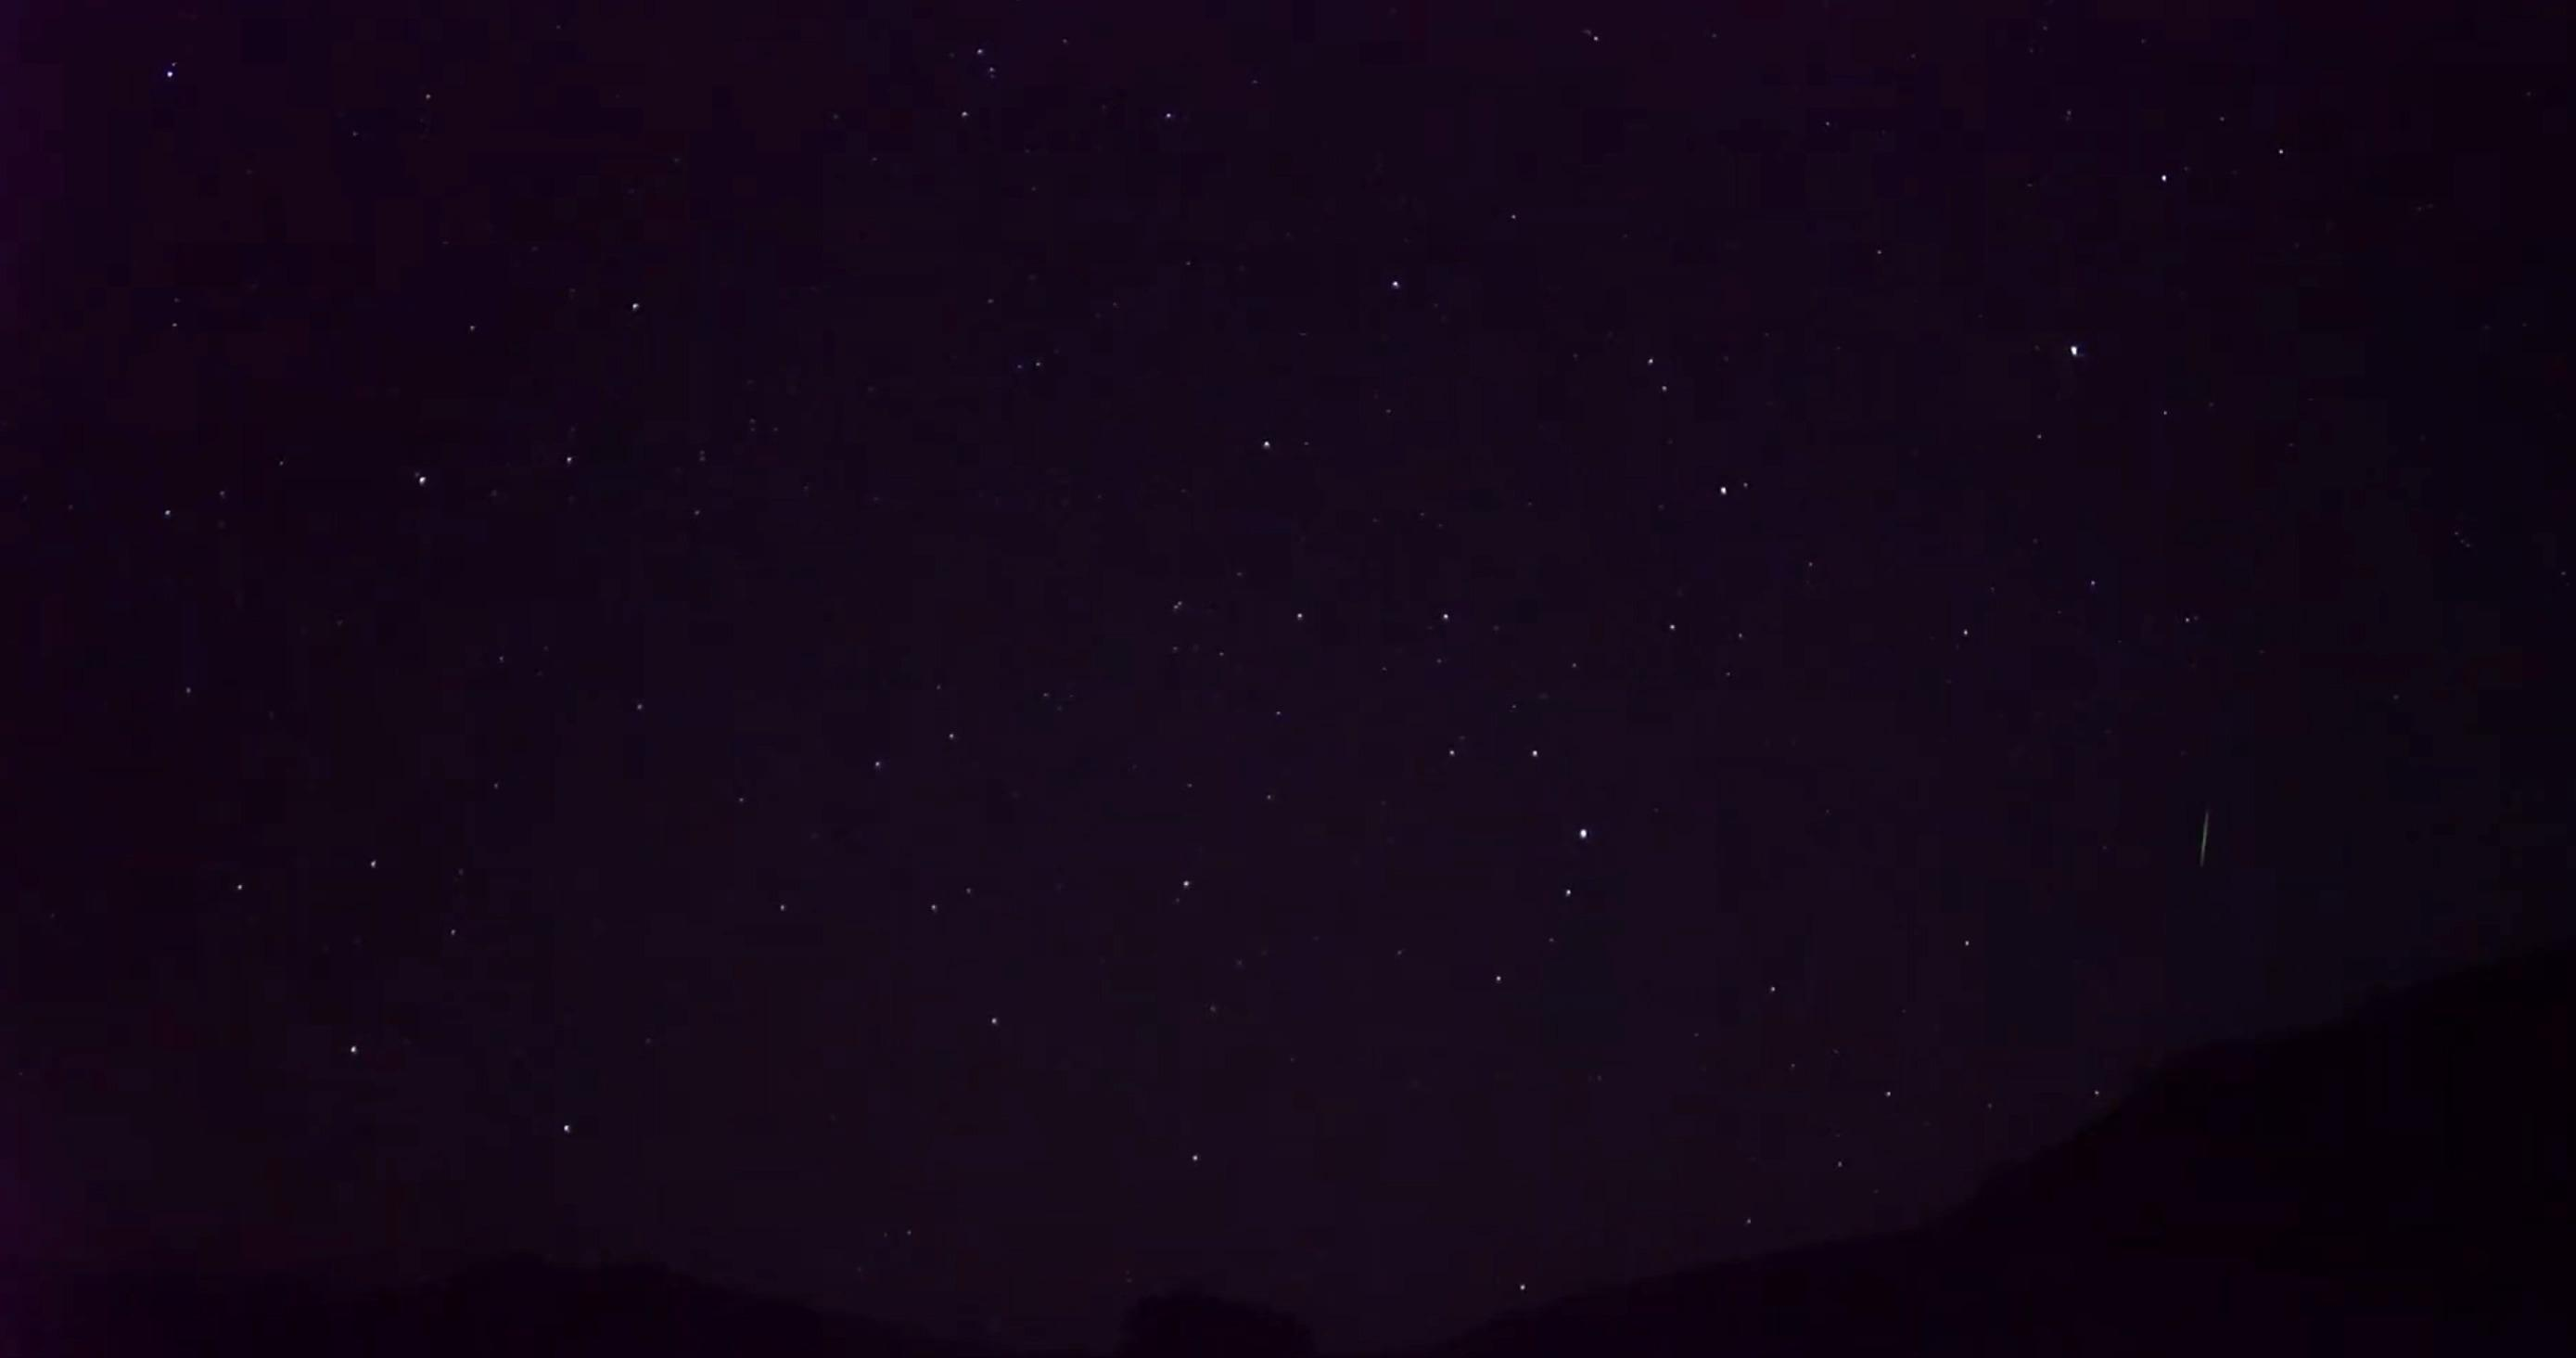meteorite: (2152, 797, 2257, 874)
